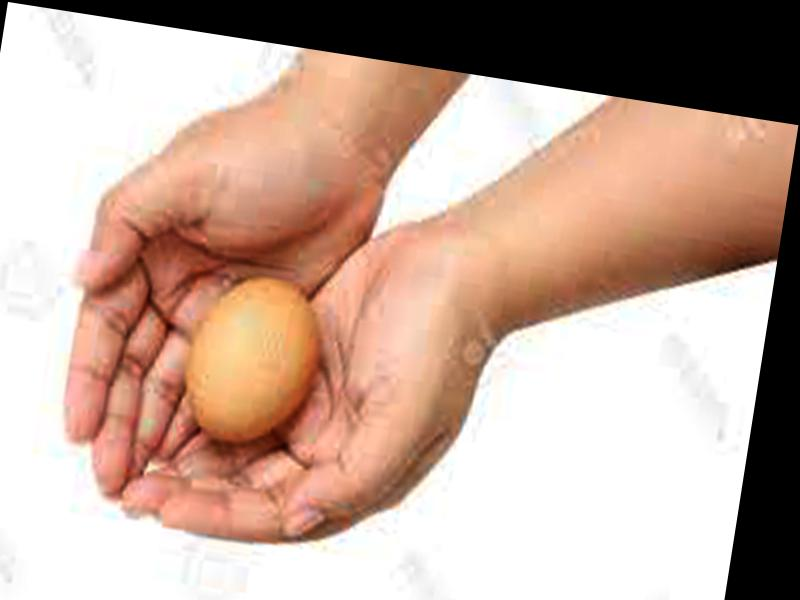Eggs: (180, 271, 328, 449)
